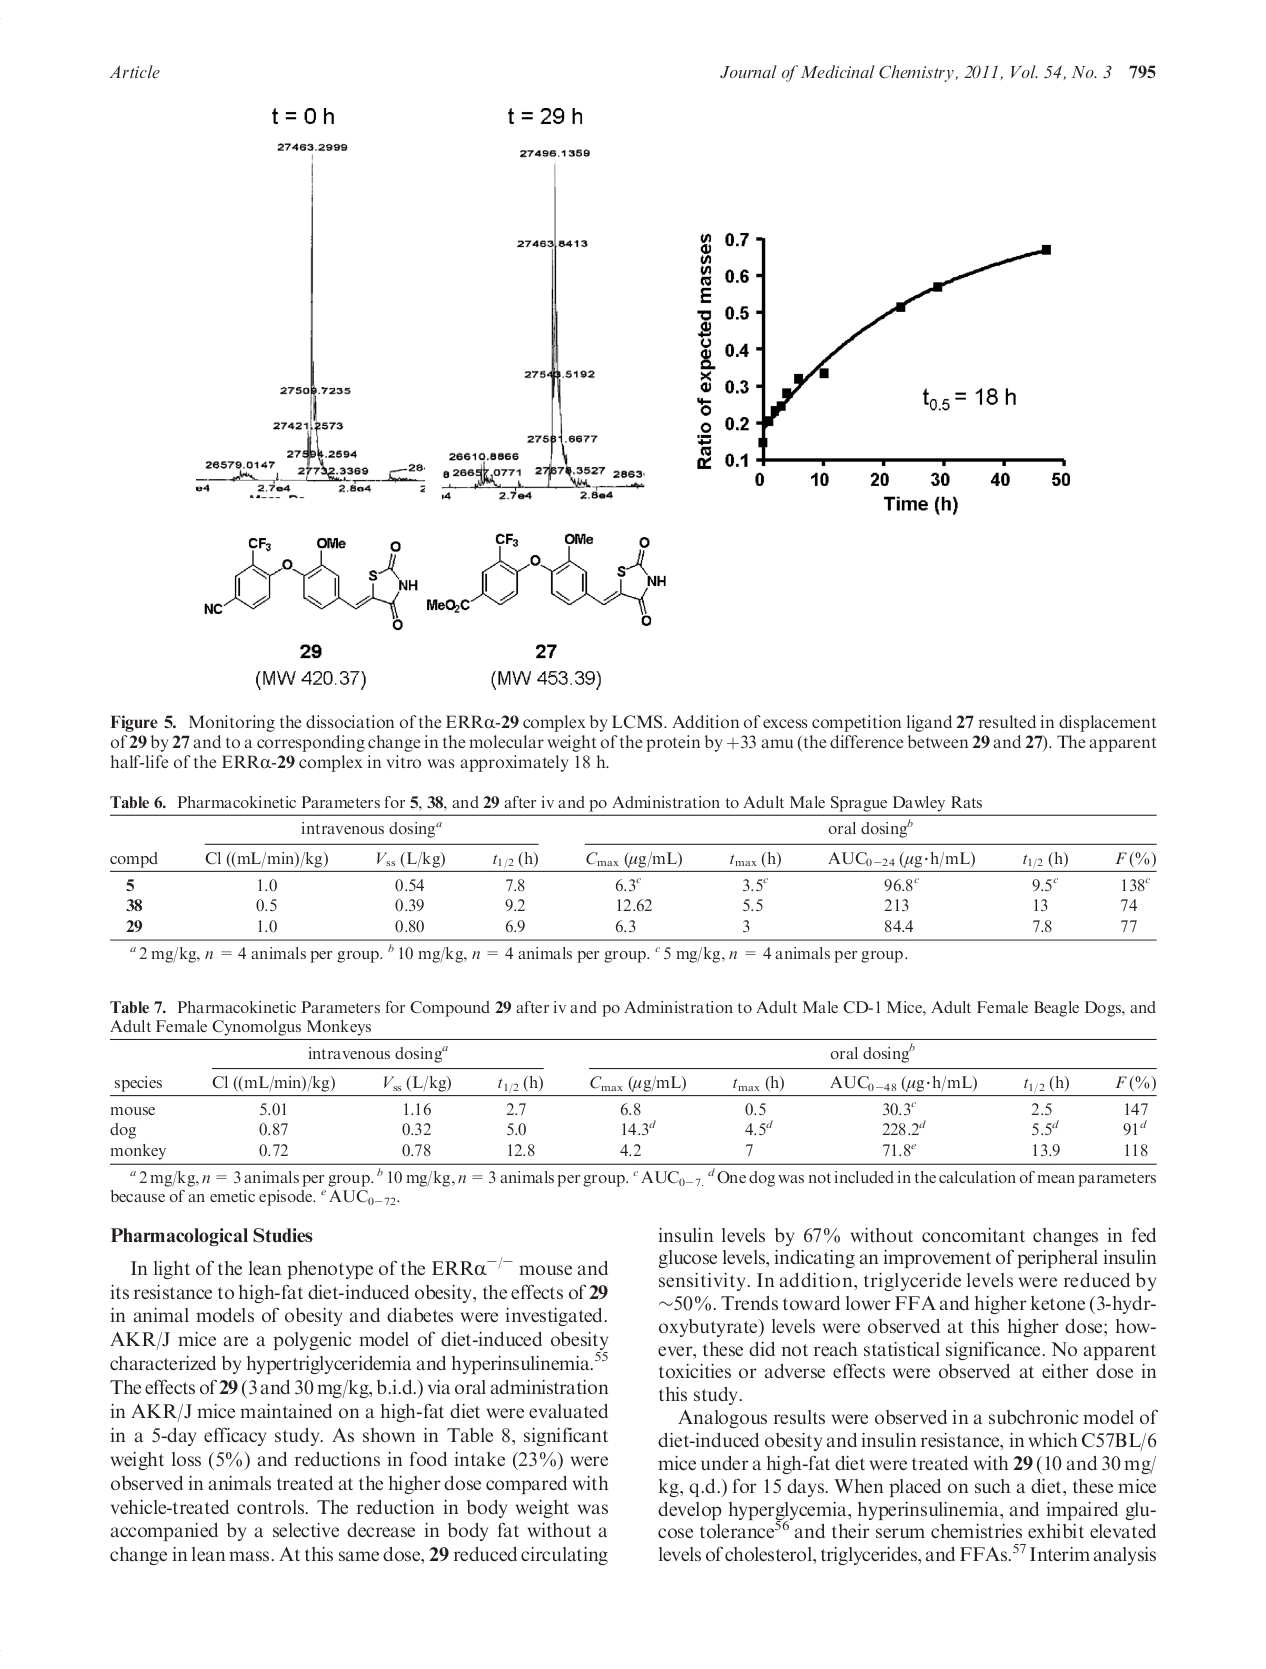exist_molecular: (426, 531, 669, 626), (202, 532, 420, 632)
